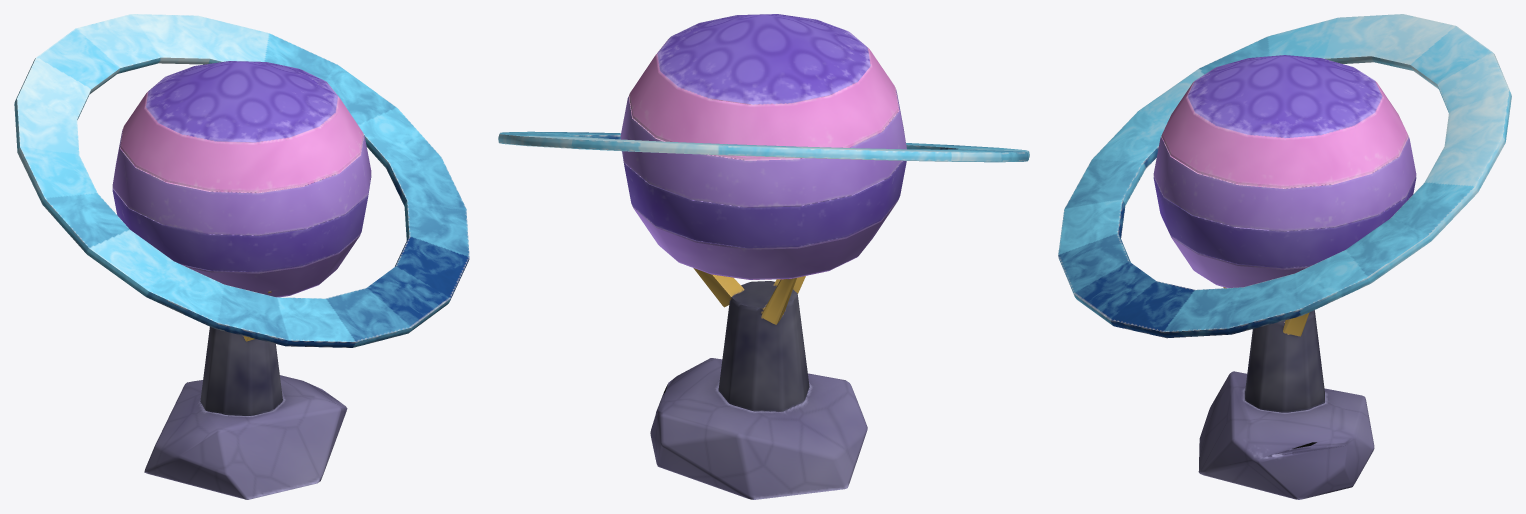
File: Cosmos_Planete.fbx
3 views of the same model, side by side, from view 1: azimuth 30°, elevation 25°; view 2: azimuth 150°, elevation 25°; view 3: azimuth 270°, elevation 25° (orthographic). The views are drawn at different scales.
Parts seen in each view (by area): view 1: Cosmos_Planete; view 2: Cosmos_Planete; view 3: Cosmos_Planete.
Boxes of the visible parts, x1,y1,x2,y2 form: Cosmos_Planete: (14, 14, 469, 499); Cosmos_Planete: (498, 14, 1029, 499); Cosmos_Planete: (1058, 14, 1511, 499).
Bounding box in the file's own units: 1240 × 1140 × 1171.
Materials: 1 (1 with a texture image).
